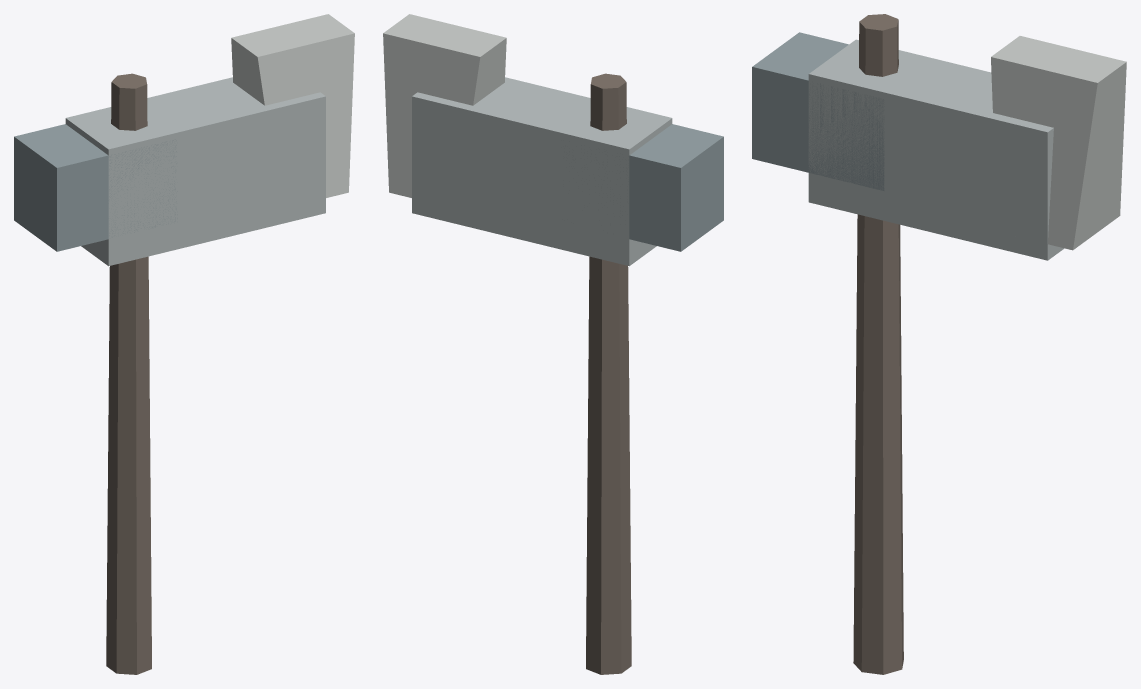
Rendered from axe.glb.
The picture shows the model from 3 angles, left to right: view 1: azimuth 30°, elevation 25°; view 2: azimuth 150°, elevation 25°; view 3: azimuth 330°, elevation 25°; orthographic projection. The views are drawn at different scales.
Parts seen in each view (by area): view 1: 工具; view 2: 工具; view 3: 工具.
Boxes of the visible parts, left/top/right/bottom form: 工具: left=14, top=14, right=354, bottom=674; 工具: left=383, top=14, right=723, bottom=674; 工具: left=752, top=14, right=1126, bottom=674.
Size of the model in its own units: 1.07 by 1.97 by 0.26.
